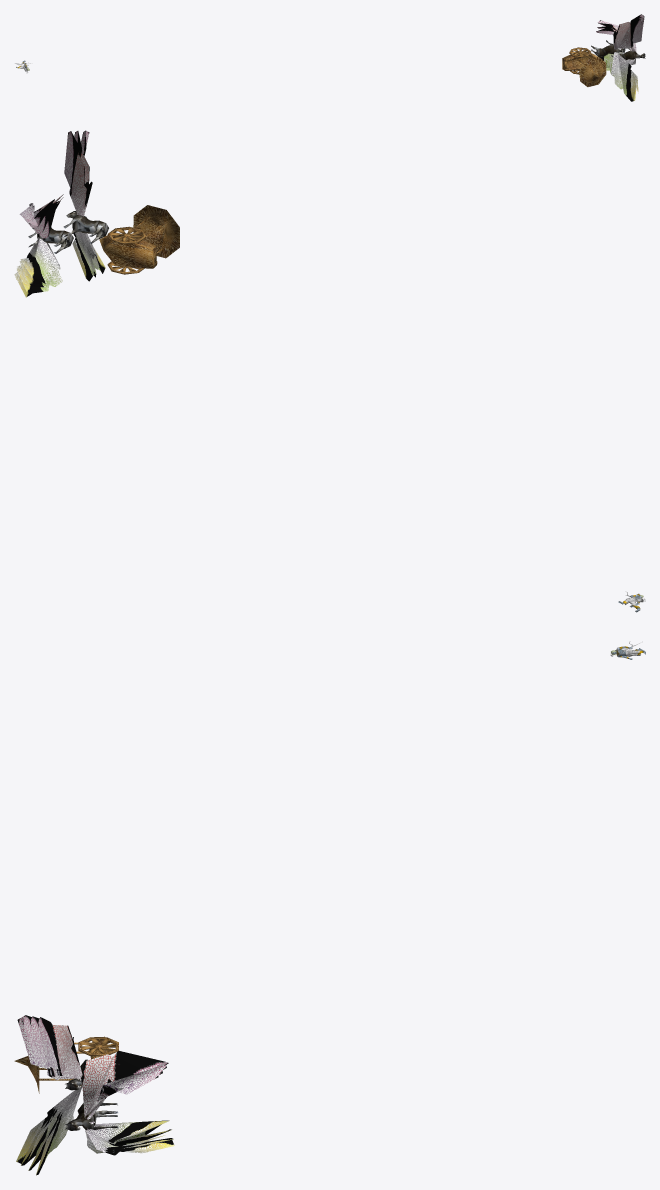
File: rama_001000.obj
The picture shows the model from 3 angles, top to bottom: view 1: azimuth 30°, elevation 25°; view 2: azimuth 150°, elevation 25°; view 3: azimuth 270°, elevation 25°; orthographic projection. The views are drawn at different scales.
Parts seen in each view (by area): view 1: wings_Plane.001, umbrella_Sphere, wings.001_Plane.000, chariot_Cube.001, Horse.001_objHorse_0.006, Horse.000_objHorse_0.005, wheelL_Cylinder.004; view 2: wings.001_Plane.000, wings_Plane.001, umbrella_Sphere, chariot_Cube.001, Horse.001_objHorse_0.006; view 3: wings.001_Plane.000, wings_Plane.001.
Part boxes in pixels (x1,y1,x2,y2): wings_Plane.001: [611, 14, 644, 101]; umbrella_Sphere: [573, 56, 606, 86]; wings.001_Plane.000: [596, 20, 636, 76]; chariot_Cube.001: [562, 51, 602, 70]; Horse.001_objHorse_0.006: [591, 40, 625, 57]; Horse.000_objHorse_0.005: [611, 48, 645, 60]; wheelL_Cylinder.004: [569, 47, 591, 57]; wings.001_Plane.000: [14, 194, 63, 297]; wings_Plane.001: [64, 130, 105, 281]; umbrella_Sphere: [127, 205, 179, 258]; chariot_Cube.001: [99, 235, 157, 268]; Horse.001_objHorse_0.006: [63, 211, 108, 243]; wings.001_Plane.000: [80, 1050, 174, 1155]; wings_Plane.001: [16, 1015, 82, 1175].
Size of the model in its own units: 80.4 by 13.19 by 45.1.
